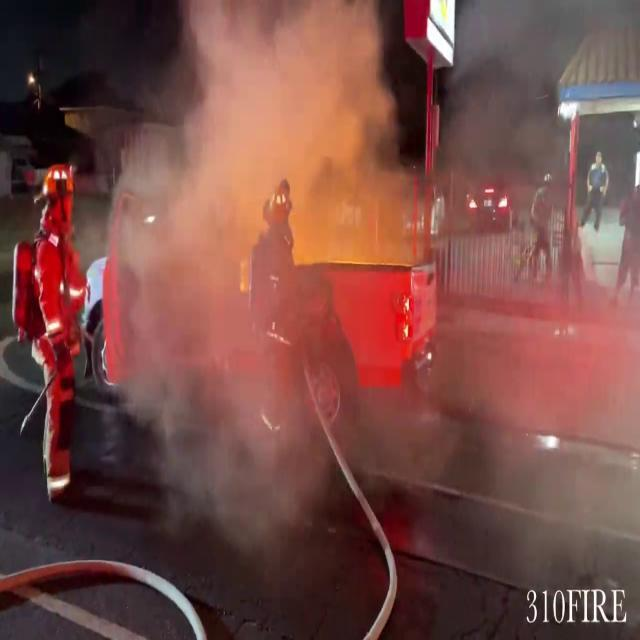Smoke: (94, 1, 432, 555)
